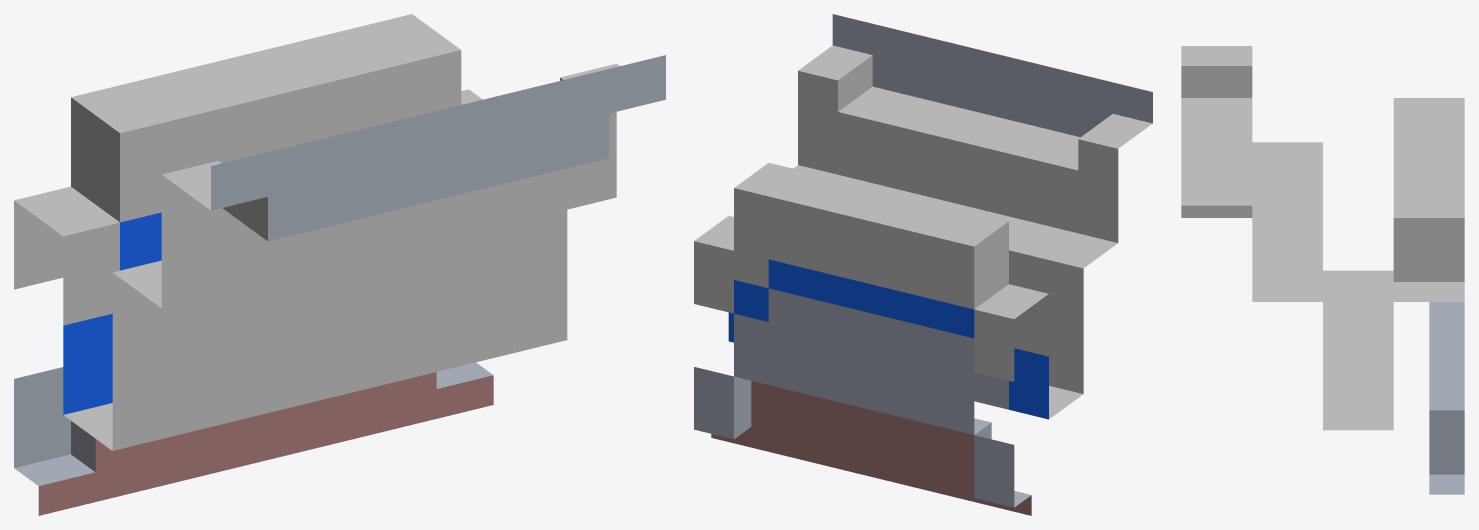
File: cell_23.obj
The picture shows the model from 3 angles, left to right: view 1: azimuth 30°, elevation 25°; view 2: azimuth 150°, elevation 25°; view 3: azimuth 270°, elevation 25°; orthographic projection. The views are drawn at different scales.
Bounding box in the file's own units: 1 × 1 × 0.75.
